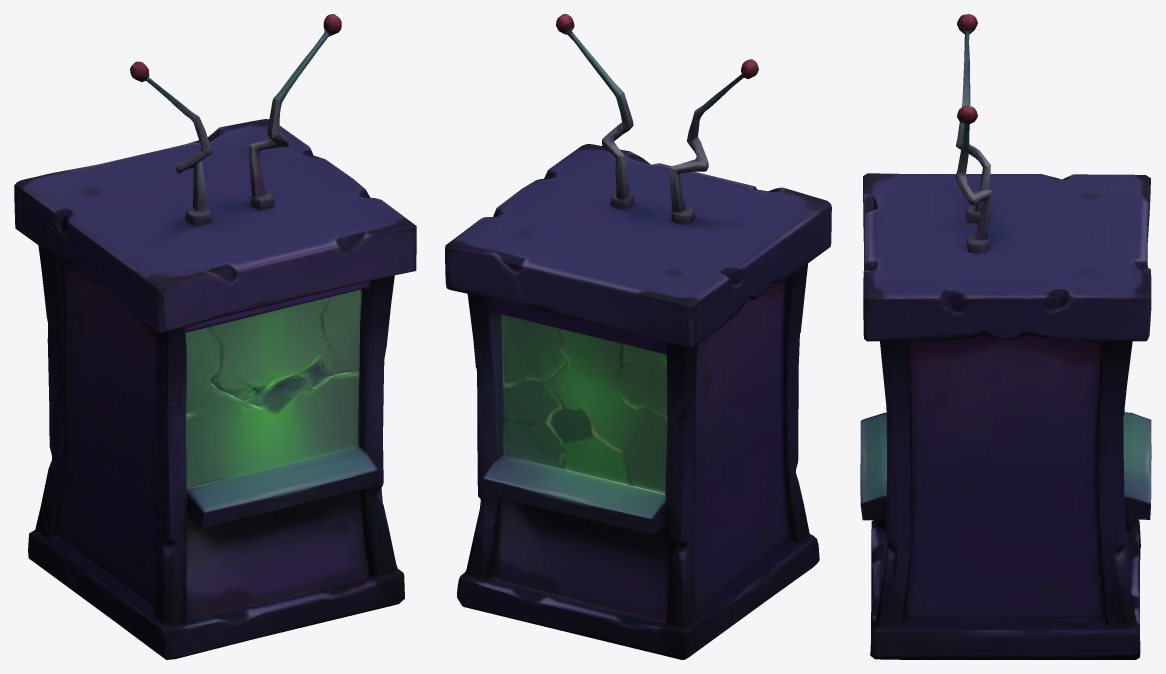
The model's file is kiosk.glb.
3 renders of one model, left to right at view 1: azimuth 30°, elevation 25°; view 2: azimuth 150°, elevation 25°; view 3: azimuth 270°, elevation 25°, orthographic. The views are drawn at different scales.
Visible parts, largest first — view 1: geometry_0; view 2: geometry_0; view 3: geometry_0.
Boxes of the visible parts, left/top/right/bottom form: geometry_0: left=14, top=14, right=416, bottom=659; geometry_0: left=445, top=14, right=831, bottom=659; geometry_0: left=860, top=14, right=1151, bottom=659.
Bounding box in the file's own units: 0.4868 × 0.9997 × 0.4843.
Materials: 1 (1 with a texture image).
